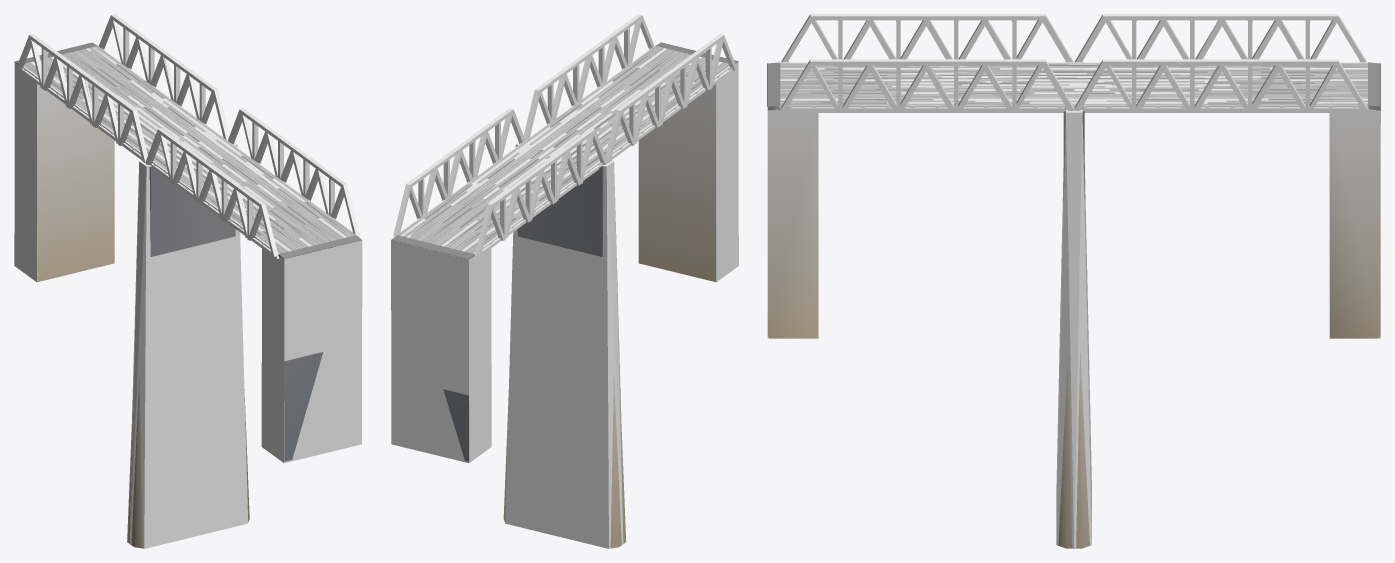
File: eca_bld_bridge_standard_46m.dae
3 renders of one model, left to right at view 1: azimuth 30°, elevation 25°; view 2: azimuth 150°, elevation 25°; view 3: azimuth 270°, elevation 25°, orthographic. The views are drawn at different scales.
Parts seen in each view (by area): view 1: Colmesh_eca_bld_bridge_standard_46m-1, eca_bld_bridge_standard_46m_a1500, eca_bld_bridge_standard_46m_a20, eca_bld_bridge_standard_46m_a200; view 2: Colmesh_eca_bld_bridge_standard_46m-1, eca_bld_bridge_standard_46m_a1500, eca_bld_bridge_standard_46m_a20, eca_bld_bridge_standard_46m_a200; view 3: eca_bld_bridge_standard_46m_a1500, Colmesh_eca_bld_bridge_standard_46m-1, eca_bld_bridge_standard_46m_a200.
Boxes of the visible parts, bbox=[...] form: Colmesh_eca_bld_bridge_standard_46m-1: bbox=[14, 14, 362, 548]; eca_bld_bridge_standard_46m_a1500: bbox=[21, 29, 358, 548]; eca_bld_bridge_standard_46m_a20: bbox=[15, 42, 361, 461]; eca_bld_bridge_standard_46m_a200: bbox=[15, 42, 361, 259]; Colmesh_eca_bld_bridge_standard_46m-1: bbox=[391, 14, 738, 548]; eca_bld_bridge_standard_46m_a1500: bbox=[394, 29, 731, 548]; eca_bld_bridge_standard_46m_a20: bbox=[391, 42, 738, 461]; eca_bld_bridge_standard_46m_a200: bbox=[391, 42, 738, 259]; eca_bld_bridge_standard_46m_a1500: bbox=[767, 17, 1380, 548]; Colmesh_eca_bld_bridge_standard_46m-1: bbox=[767, 14, 1380, 548]; eca_bld_bridge_standard_46m_a200: bbox=[767, 17, 1380, 112].
Bounding box in the file's own units: 12 × 48.05 × 41.34.
